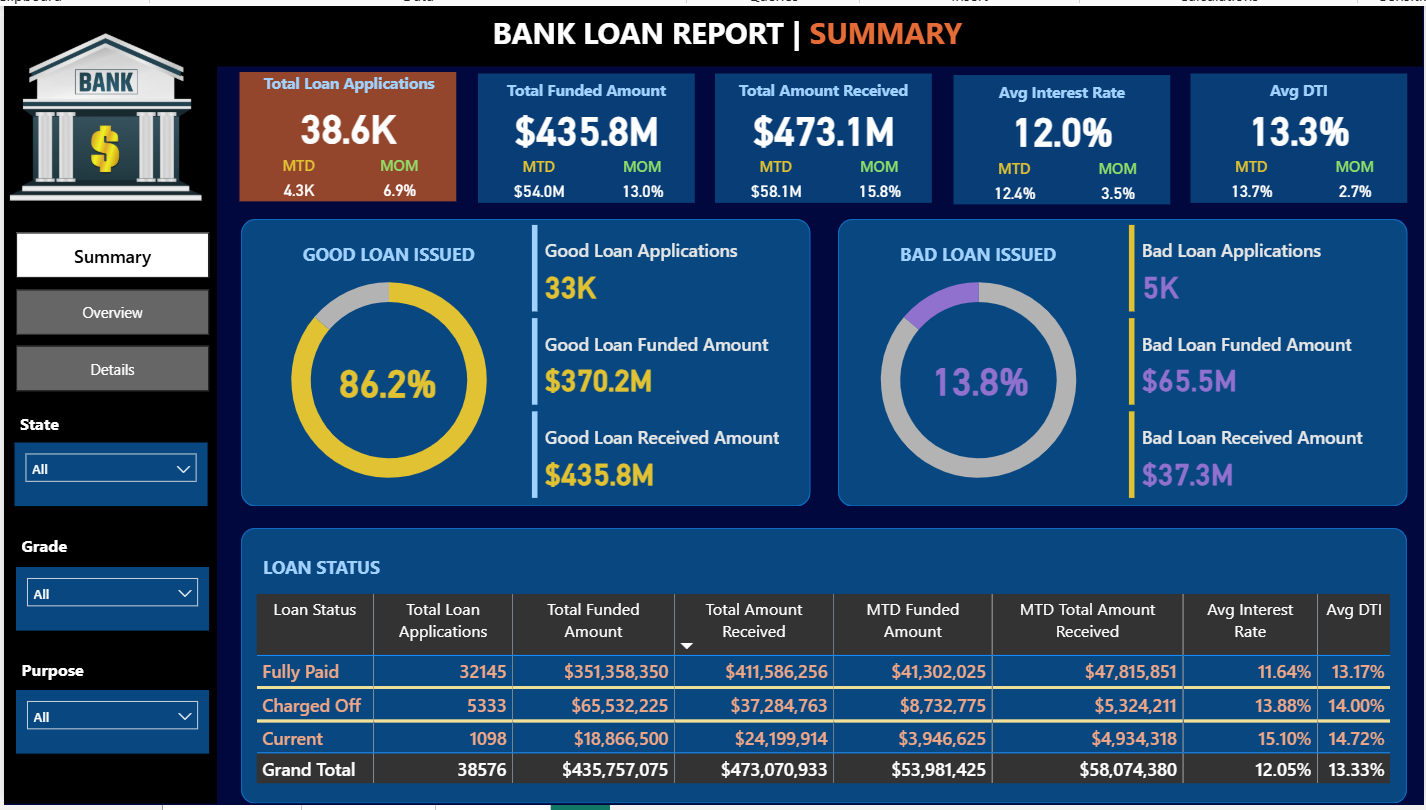

This screenshot's page, from the dashboard's own definition file:
{"tool":"powerbi","page":{"name":"Summary","canvas":[1280,720],"ordinal":0},"visuals":[{"type":"shape","box":[213.5,192.3,513.3,258.9],"z":0},{"type":"shape","box":[0,0,1279.5,54.5],"z":1000},{"type":"shape","box":[0,54.5,192.3,664.7],"z":2000},{"type":"shape","box":[213.3,59.1,195.3,116.6],"z":2000,"group":"g1"},{"type":"textbox","box":[434.6,0,443.7,54.5],"z":3000},{"type":"group","id":"g1","title":"Group 1","box":[209.9,53.8,202.9,121.9],"z":4000},{"type":"shape","box":[427.2,60.6,195.3,116.6],"z":4000,"group":"g2"},{"type":"shape","box":[641.1,60.6,195.3,116.6],"z":4000,"group":"g4"},{"type":"shape","box":[1069,60.6,195.3,116.6],"z":4000,"group":"g3"},{"type":"shape","box":[855.1,62.1,195.3,116.6],"z":4000,"group":"g5"},{"type":"card","fields":{"Values":["financial_loan.Tatal Loan Applications"]},"box":[213.3,81.8,195.3,51.5],"z":4000,"group":"g1"},{"type":"textbox","box":[209.9,53.8,202.9,46.9],"z":5000,"group":"g1"},{"type":"group","id":"g2","title":"Group 2","box":[427.2,60.6,195.3,116.6],"z":5000},{"type":"card","fields":{"Values":["financial_loan.Total Funded Amount"]},"box":[427.2,83.3,195.3,51.5],"z":5000,"group":"g2"},{"type":"card","fields":{"Values":["financial_loan.Total Amount Received"]},"box":[641.1,83.3,195.3,51.5],"z":5000,"group":"g4"},{"type":"card","fields":{"Values":["financial_loan.Avg DTI"]},"box":[1069,83.3,195.3,51.5],"z":5000,"group":"g3"},{"type":"card","fields":{"Values":["financial_loan.Avg Interest Rate"]},"box":[855.1,84.8,195.3,51.5],"z":5000,"group":"g5"},{"type":"textbox","box":[427.2,60.6,195.3,33.3],"z":6000,"group":"g2"},{"type":"textbox","box":[641.1,60.6,195.3,33.3],"z":6000,"group":"g4"},{"type":"textbox","box":[1069,60.6,195.3,33.3],"z":6000,"group":"g3"},{"type":"textbox","box":[855.1,62.1,195.3,33.3],"z":6000,"group":"g5"},{"type":"card","title":"MTD","fields":{"Values":["financial_loan.MTD Loan Applications"]},"box":[228.4,133.3,74.2,42.4],"z":6000,"group":"g1"},{"type":"textbox","box":[221.1,207.4,249.8,43.9],"z":6000},{"type":"group","id":"g3","title":"Group 2","box":[1069,60.6,195.3,116.6],"z":7000},{"type":"card","title":"MOM","fields":{"Values":["financial_loan.MOM Loan Application"]},"box":[319.3,133.3,74.2,42.4],"z":7000,"group":"g1"},{"type":"card","title":"MTD","fields":{"Values":["financial_loan.MTD Funded Amount"]},"box":[437.8,134.8,87.8,42.4],"z":7000,"group":"g2"},{"type":"card","title":"MTD","fields":{"Values":["financial_loan.MTD Total Amount Received"]},"box":[651.7,134.8,87.8,42.4],"z":7000,"group":"g4"},{"type":"card","title":"MTD","fields":{"Values":["financial_loan.MTD Avg DTI"]},"box":[1079.6,134.8,87.8,42.4],"z":7000,"group":"g3"},{"type":"card","title":"MTD","fields":{"Values":["financial_loan.MTD Avg Int Rate"]},"box":[865.7,136.3,87.8,42.4],"z":7000,"group":"g5"},{"type":"card","title":"MOM","fields":{"Values":["financial_loan.MOM Total Funded Amount"]},"box":[537.7,134.8,74.2,42.4],"z":8000,"group":"g2"},{"type":"card","title":"MOM","fields":{"Values":["financial_loan.MOM Total Amount Received"]},"box":[751.6,134.8,74.2,42.4],"z":8000,"group":"g4"},{"type":"card","title":"MOM","fields":{"Values":["financial_loan.MOM Avg DTI"]},"box":[1179.5,134.8,74.2,42.4],"z":8000,"group":"g3"},{"type":"card","title":"MOM","fields":{"Values":["financial_loan.MOM Avg Int Rate"]},"box":[965.6,136.3,74.2,42.4],"z":8000,"group":"g5"},{"type":"donutChart","fields":{"Category":["financial_loan.Good vs Bad Loan"],"Y":["financial_loan.Tatal Loan Applications"]},"box":[221.1,221.1,249.8,230.2],"z":8000},{"type":"card","fields":{"Values":["financial_loan.Good Loan %"]},"box":[281.6,311.9,128.7,50],"z":9000},{"type":"group","id":"g4","title":"Group 2","box":[641.1,60.6,195.3,116.6],"z":10000},{"type":"group","id":"g5","title":"Group 2","box":[855.1,62.1,195.3,116.6],"z":11000},{"type":"shape","box":[751,192.3,513.3,258.9],"z":12000},{"type":"cardVisual","fields":{"Data":["financial_loan.Good Loan Applications","financial_loan.Good Loan Funded Amount","financial_loan.Good Loan Received Amount"]},"box":[470.9,192.3,255.9,258.9],"z":13000},{"type":"donutChart","fields":{"Category":["financial_loan.Good vs Bad Loan"],"Y":["financial_loan.Tatal Loan Applications"]},"box":[752.6,221.1,249.8,230.2],"z":14000},{"type":"textbox","box":[752.6,207.4,249.8,43.9],"z":15000},{"type":"card","fields":{"Values":["financial_loan.Bad Loan %"]},"box":[814.6,310.4,128.7,50],"z":16000},{"type":"cardVisual","fields":{"Data":["financial_loan.Bad Loan Applications","financial_loan.Bad Loan Funded Amount","financial_loan.Bad Loan Received Amount"]},"box":[1008.5,192.3,255.9,258.9],"z":17000},{"type":"shape","box":[213.5,470.9,1050.9,248.3],"z":18000},{"type":"tableEx","fields":{"Values":["financial_loan.loan_status","financial_loan.Tatal Loan Applications","financial_loan.Total Funded Amount","financial_loan.Total Amount Received","financial_loan.MTD Funded Amount","financial_loan.MTD Total Amount Received","financial_loan.Avg Interest Rate","financial_loan.Avg DTI"]},"box":[221.1,523.9,1032.7,184.7],"z":19000},{"type":"textbox","box":[228.6,489.1,308.9,45.4],"z":20000},{"type":"slicer","fields":{"Values":["financial_loan.address_state"]},"box":[9.1,393.7,174.1,57.5],"z":21000},{"type":"textbox","box":[9.1,360.4,63.6,43.9],"z":22000},{"type":"slicer","fields":{"Values":["financial_loan.grade"]},"box":[10.6,505.7,174.1,57.5],"z":23000},{"type":"textbox","box":[10.6,470.9,62.1,43.9],"z":24000},{"type":"slicer","fields":{"Values":["financial_loan.purpose"]},"box":[10.6,616.3,174.1,57.5],"z":25000},{"type":"textbox","box":[10.6,583,86.3,43.9],"z":26000},{"type":"image","box":[0,4.5,183.2,192.3],"z":27000},{"type":"pageNavigator","box":[10.6,204.4,174.1,145.4],"z":28000}]}

Visuals, with their boxes on the page's 1280x720 design canvas (x1, y1, x2, y2). These are canvas units, not pixel positions in the 1426x810 screenshot, which may show the page scaled, cropped or inside an application window:
shape: (214,192,727,451)
shape: (0,0,1280,54)
shape: (0,54,192,719)
shape: (213,59,409,176)
textbox: (435,0,878,54)
"Group 1" group: (210,54,413,176)
shape: (427,61,622,177)
shape: (641,61,836,177)
shape: (1069,61,1264,177)
shape: (855,62,1050,179)
card - financial_loan.Tatal Loan Applications: (213,82,409,133)
textbox: (210,54,413,101)
"Group 2" group: (427,61,622,177)
card - financial_loan.Total Funded Amount: (427,83,622,135)
card - financial_loan.Total Amount Received: (641,83,836,135)
card - financial_loan.Avg DTI: (1069,83,1264,135)
card - financial_loan.Avg Interest Rate: (855,85,1050,136)
textbox: (427,61,622,94)
textbox: (641,61,836,94)
textbox: (1069,61,1264,94)
textbox: (855,62,1050,95)
"MTD" card: (228,133,303,176)
textbox: (221,207,471,251)
"Group 2" group: (1069,61,1264,177)
"MOM" card: (319,133,394,176)
"MTD" card: (438,135,526,177)
"MTD" card: (652,135,740,177)
"MTD" card: (1080,135,1167,177)
"MTD" card: (866,136,954,179)
"MOM" card: (538,135,612,177)
"MOM" card: (752,135,826,177)
"MOM" card: (1180,135,1254,177)
"MOM" card: (966,136,1040,179)
donutChart - financial_loan.Good vs Bad Loan x financial_loan.Tatal Loan Applications: (221,221,471,451)
card - financial_loan.Good Loan %: (282,312,410,362)
"Group 2" group: (641,61,836,177)
"Group 2" group: (855,62,1050,179)
shape: (751,192,1264,451)
cardVisual - financial_loan.Good Loan Applications x financial_loan.Good Loan Funded Amount: (471,192,727,451)
donutChart - financial_loan.Good vs Bad Loan x financial_loan.Tatal Loan Applications: (753,221,1002,451)
textbox: (753,207,1002,251)
card - financial_loan.Bad Loan %: (815,310,943,360)
cardVisual - financial_loan.Bad Loan Applications x financial_loan.Bad Loan Funded Amount: (1008,192,1264,451)
shape: (214,471,1264,719)
tableEx - financial_loan.loan_status x financial_loan.Tatal Loan Applications: (221,524,1254,709)
textbox: (229,489,538,534)
slicer - financial_loan.address_state: (9,394,183,451)
textbox: (9,360,73,404)
slicer - financial_loan.grade: (11,506,185,563)
textbox: (11,471,73,515)
slicer - financial_loan.purpose: (11,616,185,674)
textbox: (11,583,97,627)
image: (0,4,183,197)
pageNavigator: (11,204,185,350)
